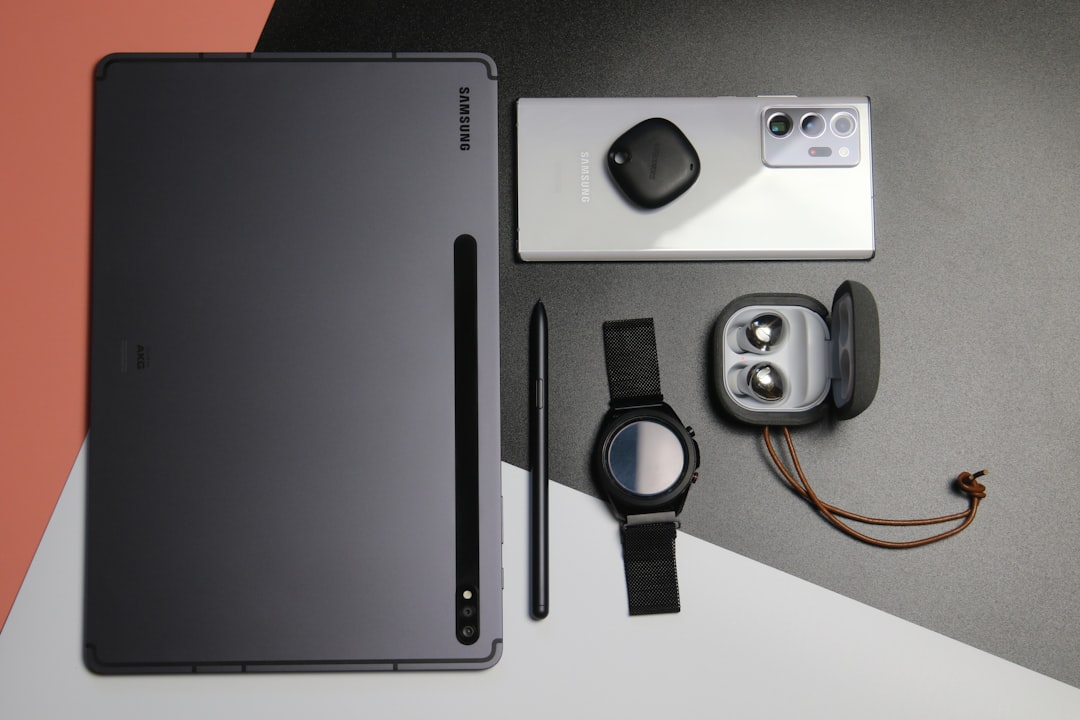phone: (516, 96, 874, 264)
